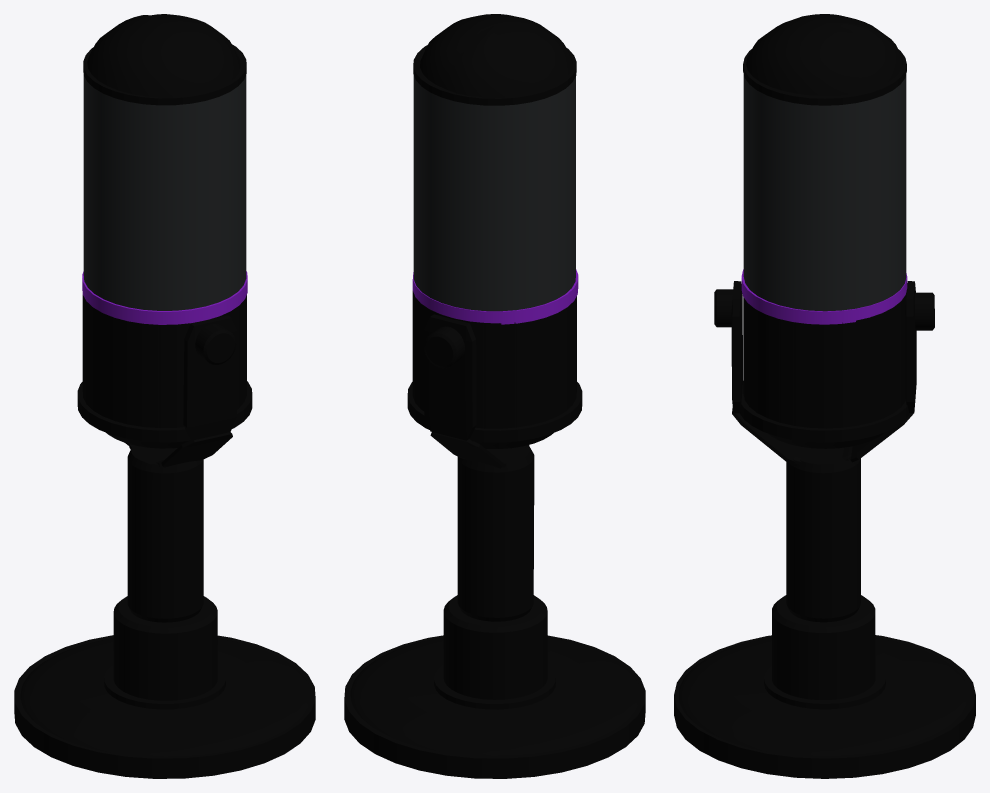
The model's file is microphone.glb.
The picture shows the model from 3 angles, left to right: view 1: azimuth 30°, elevation 25°; view 2: azimuth 150°, elevation 25°; view 3: azimuth 270°, elevation 25°; orthographic projection.
Parts seen in each view (by area): view 1: Cylinder.003_6, Sphere_0, Cylinder.001_2, Cylinder.002_5, Sphere.001_8, Cylinder_1, Cylinder.009_18, Cube.002_11, Cylinder.006_13, Cylinder.008_15, Cylinder.007_14, Cylinder.010_19 (+2 smaller); view 2: Cylinder.003_6, Sphere_0, Cylinder.002_5, Cylinder.001_2, Sphere.001_8, Cylinder_1, Cylinder.009_18, Cube.003_4, Cylinder.006_13, Cylinder.008_15, Cylinder.007_14, Cylinder.010_19 (+2 smaller); view 3: Cylinder.003_6, Sphere_0, Cylinder.002_5, Cylinder.001_2, Sphere.001_8, Cylinder_1, Cylinder.009_18, Cylinder.008_15, Cylinder.006_13, Cylinder.007_14, Cylinder.010_19, Cube.002_11 (+5 smaller).
Boxes of the visible parts, x1,y1,x2,y2 form: Cylinder.003_6: [83, 75, 246, 310]; Sphere_0: [20, 638, 310, 756]; Cylinder.001_2: [127, 446, 203, 622]; Cylinder.002_5: [82, 295, 246, 448]; Sphere.001_8: [87, 14, 240, 97]; Cylinder_1: [113, 596, 217, 700]; Cylinder.009_18: [14, 635, 315, 778]; Cube.002_11: [183, 315, 237, 440]; Cylinder.006_13: [82, 271, 247, 324]; Cylinder.008_15: [77, 381, 252, 442]; Cylinder.007_14: [83, 44, 246, 105]; Cylinder.010_19: [104, 665, 225, 709]; Cylinder.003_6: [413, 75, 575, 311]; Sphere_0: [350, 637, 640, 755]; Cylinder.002_5: [412, 291, 576, 448]; Cylinder.001_2: [457, 445, 534, 621]; Sphere.001_8: [420, 14, 572, 97]; Cylinder_1: [443, 595, 547, 699]; Cylinder.009_18: [344, 635, 645, 778]; Cube.003_4: [424, 314, 476, 440]; Cylinder.006_13: [412, 269, 578, 324]; Cylinder.008_15: [407, 382, 582, 442]; Cylinder.007_14: [413, 45, 576, 105]; Cylinder.010_19: [434, 665, 555, 709]; Cylinder.003_6: [743, 74, 906, 311]; Sphere_0: [679, 637, 968, 755]; Cylinder.002_5: [743, 288, 907, 448]; Cylinder.001_2: [786, 447, 860, 622]; Sphere.001_8: [746, 14, 903, 95]; Cylinder_1: [772, 595, 875, 699]; Cylinder.009_18: [674, 635, 975, 778]; Cylinder.008_15: [740, 381, 909, 442]; Cylinder.006_13: [741, 269, 907, 324]; Cylinder.007_14: [743, 49, 906, 105]; Cylinder.010_19: [764, 664, 885, 709]; Cube.002_11: [731, 281, 742, 413].
Bounding box in the file's own units: 2.52 × 6.37 × 2.52.
